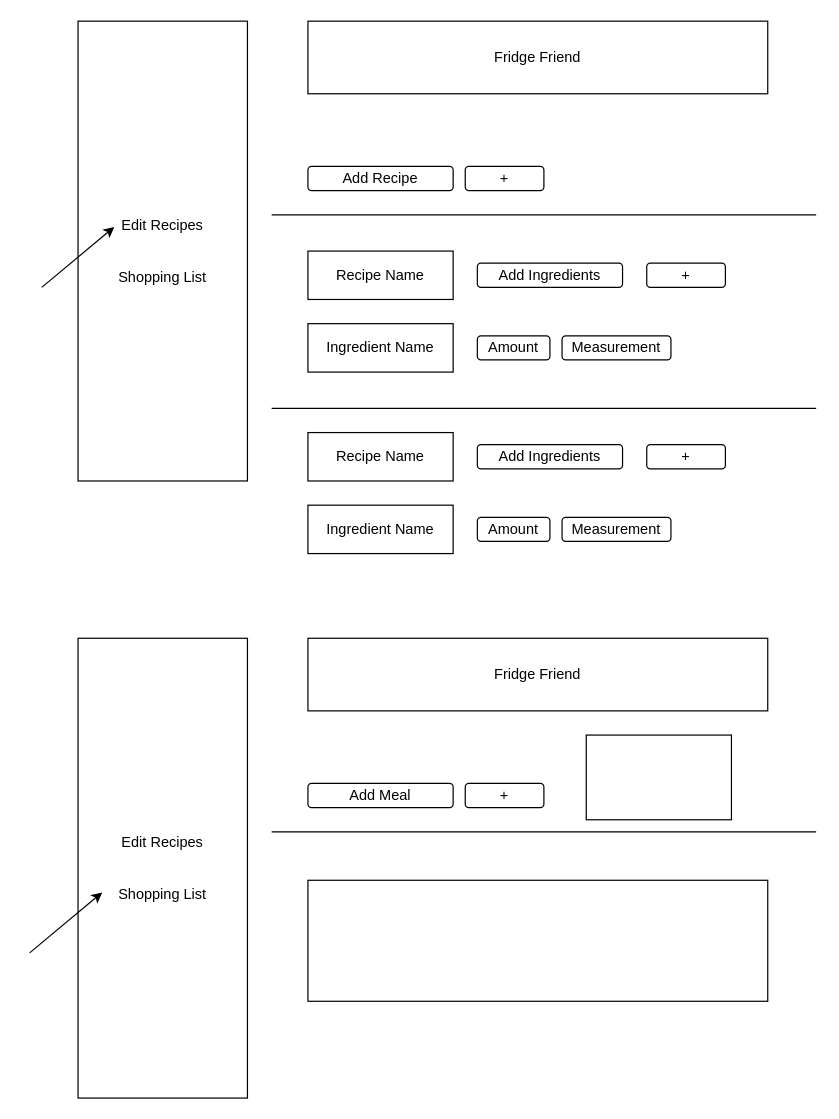
This 839x1119 diagram has some shape labels left out. Each missing label, with the centre of its shape:
"List of groceries" goes at (x=537, y=940).
"List of meals" goes at (x=658, y=777).
